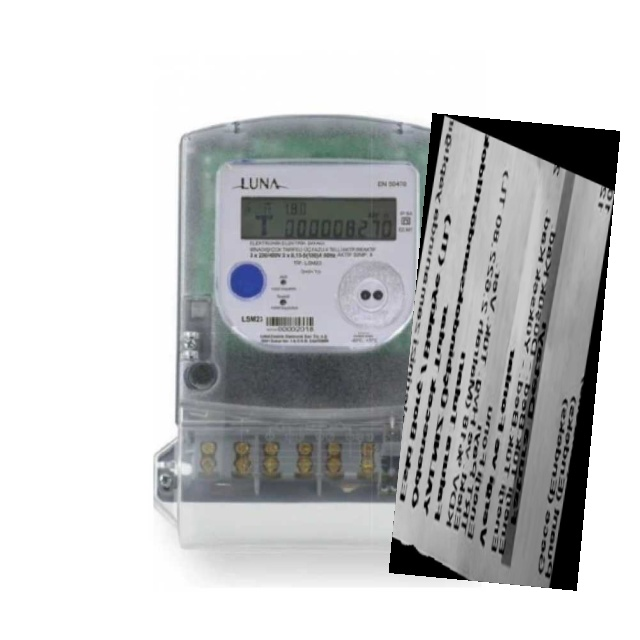electricity-bill: (388, 113, 620, 591)
